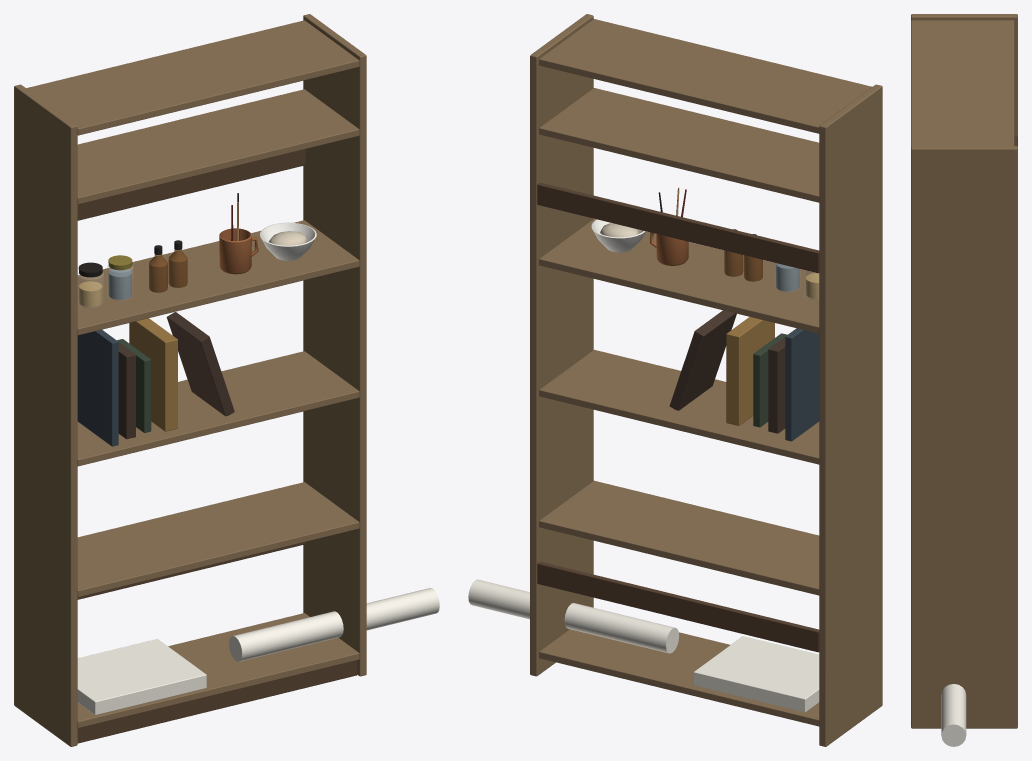
The model's file is shelf.glb.
3 views of the same model, side by side, from view 1: azimuth 30°, elevation 25°; view 2: azimuth 150°, elevation 25°; view 3: azimuth 270°, elevation 25° (orthographic). The views are drawn at different scales.
Visible parts, largest first — view 1: Shelf, Shelf_Side_-1, Shelf_PaperStack, Shelf_PaperRoll, Shelf_Kick, Sketchbook_search_v0_Cover, Shelf_BackRail_1.4, Shelf_Book_Lean, Shelf_Mug_Body, Shelf_Bowl_Body, Shelf_Jar_1_Glass, Shelf_Jar_0_Glass (+2 smaller); view 2: Shelf, Shelf_Side_-1, Shelf_BackRail_1.4, Shelf_BackRail_0.3, Shelf_PaperStack, Shelf_PaperRoll, Sketchbook_search_v0_Cover, Shelf_Book_Lean, Shelf_Mug_Body, Shelf_Bowl_Body; view 3: Shelf, Shelf_PaperRoll, Shelf_Side_-1.
Boxes of the visible parts, x1,y1,x2,y2 form: Shelf: [26, 14, 366, 728]; Shelf_Side_-1: [14, 84, 77, 746]; Shelf_PaperStack: [77, 639, 206, 715]; Shelf_PaperRoll: [229, 588, 439, 661]; Shelf_Kick: [77, 660, 357, 743]; Sketchbook_search_v0_Cover: [77, 329, 118, 446]; Shelf_BackRail_1.4: [77, 149, 305, 220]; Shelf_Book_Lean: [166, 312, 234, 416]; Shelf_Mug_Body: [219, 228, 251, 274]; Shelf_Bowl_Body: [260, 222, 316, 260]; Shelf_Jar_1_Glass: [107, 265, 132, 300]; Shelf_Jar_0_Glass: [78, 272, 103, 307]; Shelf: [530, 14, 872, 726]; Shelf_Side_-1: [819, 84, 882, 746]; Shelf_BackRail_1.4: [537, 182, 819, 273]; Shelf_BackRail_0.3: [537, 561, 819, 652]; Shelf_PaperStack: [693, 636, 819, 712]; Shelf_PaperRoll: [468, 579, 679, 653]; Sketchbook_search_v0_Cover: [785, 328, 819, 441]; Shelf_Book_Lean: [669, 310, 736, 410]; Shelf_Mug_Body: [656, 234, 688, 265]; Shelf_Bowl_Body: [591, 219, 645, 252]; Shelf: [911, 20, 1017, 728]; Shelf_PaperRoll: [941, 684, 966, 746]; Shelf_Side_-1: [911, 14, 1017, 136].
Bounding box in the file's own units: 1.17 × 1.8 × 0.3.
